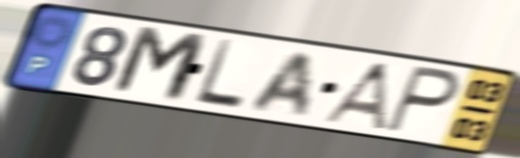8: (72, 24, 129, 88)
A: (317, 59, 394, 133), (245, 49, 316, 119)
L: (191, 37, 246, 112)
M: (108, 23, 213, 106)
P: (381, 63, 464, 137)
